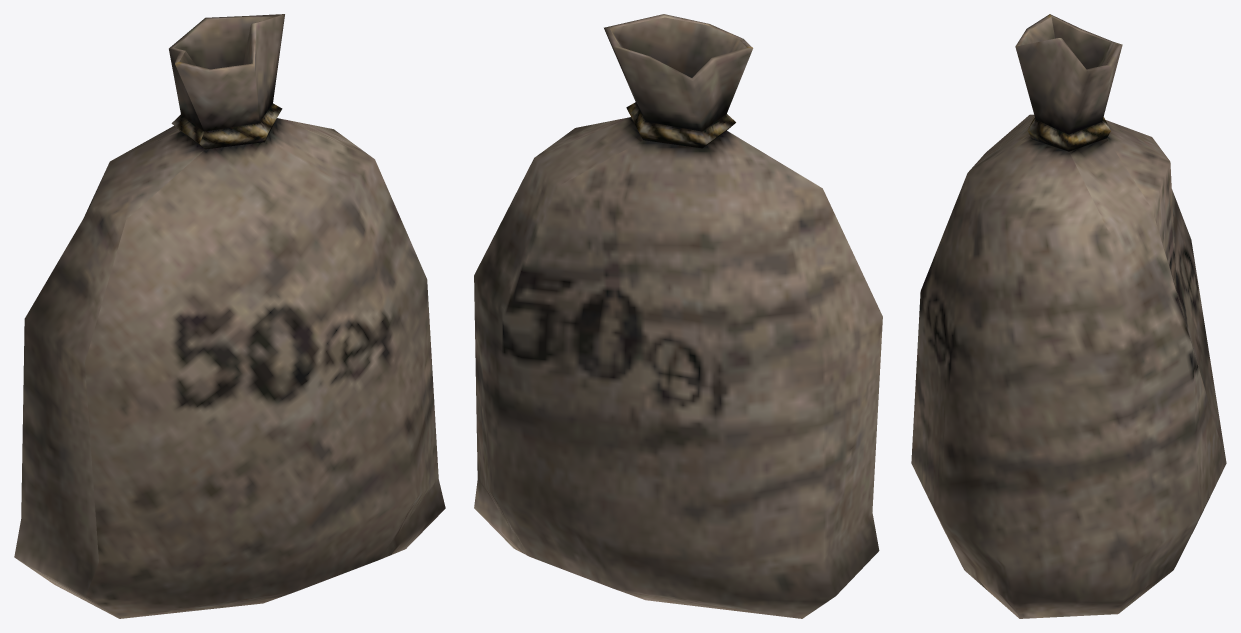
The model's file is coins_large.dae.
The picture shows the model from 3 angles, left to right: view 1: azimuth 30°, elevation 25°; view 2: azimuth 150°, elevation 25°; view 3: azimuth 270°, elevation 25°; orthographic projection. The views are drawn at different scales.
Parts seen in each view (by area): view 1: coins_large; view 2: coins_large; view 3: coins_large.
Part boxes in pixels (bbox=[...]): coins_large: bbox=[14, 14, 445, 618]; coins_large: bbox=[474, 14, 882, 618]; coins_large: bbox=[911, 14, 1226, 618].
Size of the model in its own units: 0.2503 by 0.3554 by 0.1908.
